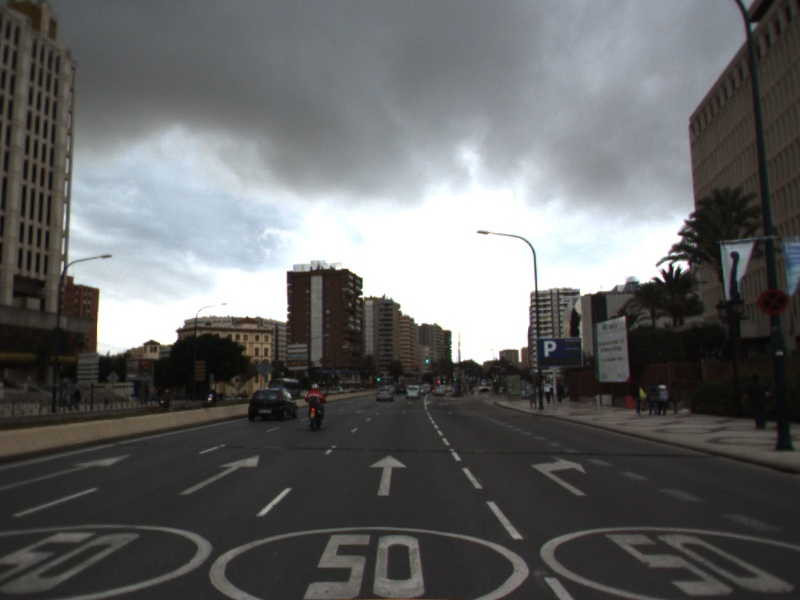RIGHT: (528, 455, 592, 498)
STRAIGHT: (1, 452, 134, 492), (176, 453, 262, 497), (366, 452, 410, 498)
